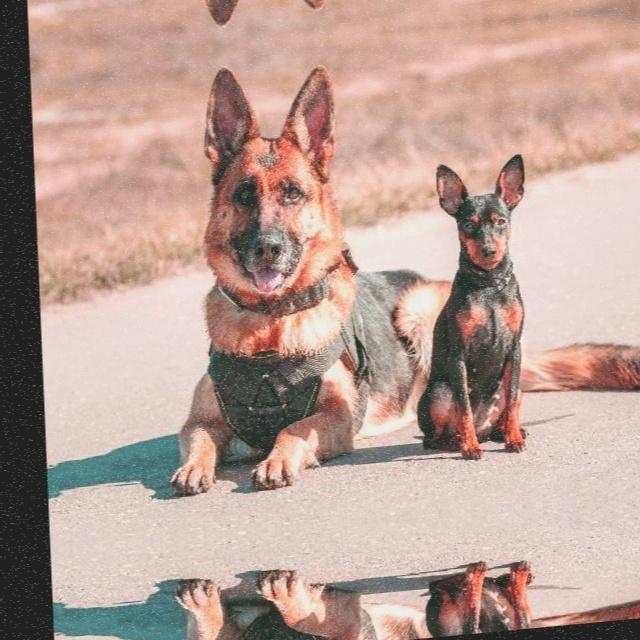dog: (156, 47, 393, 539), (407, 148, 574, 514), (175, 519, 398, 640), (422, 502, 579, 638), (150, 0, 372, 37)
